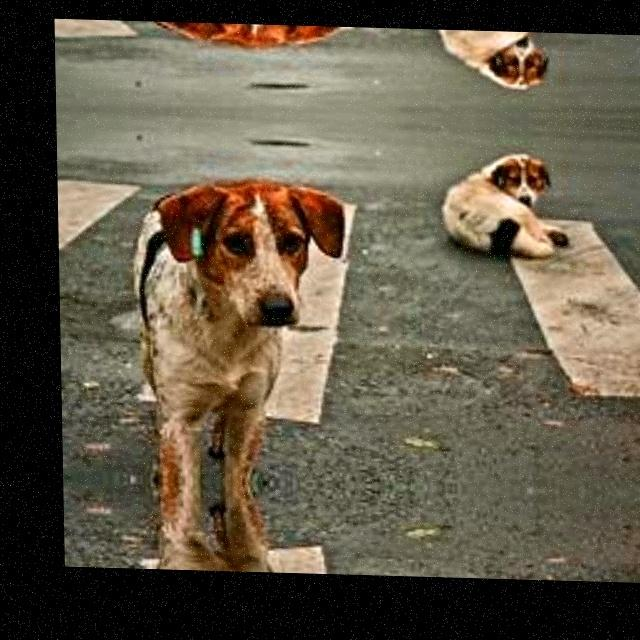dog: (109, 140, 348, 460), (411, 133, 571, 287), (115, 504, 349, 575), (106, 20, 340, 85), (408, 29, 568, 107)
